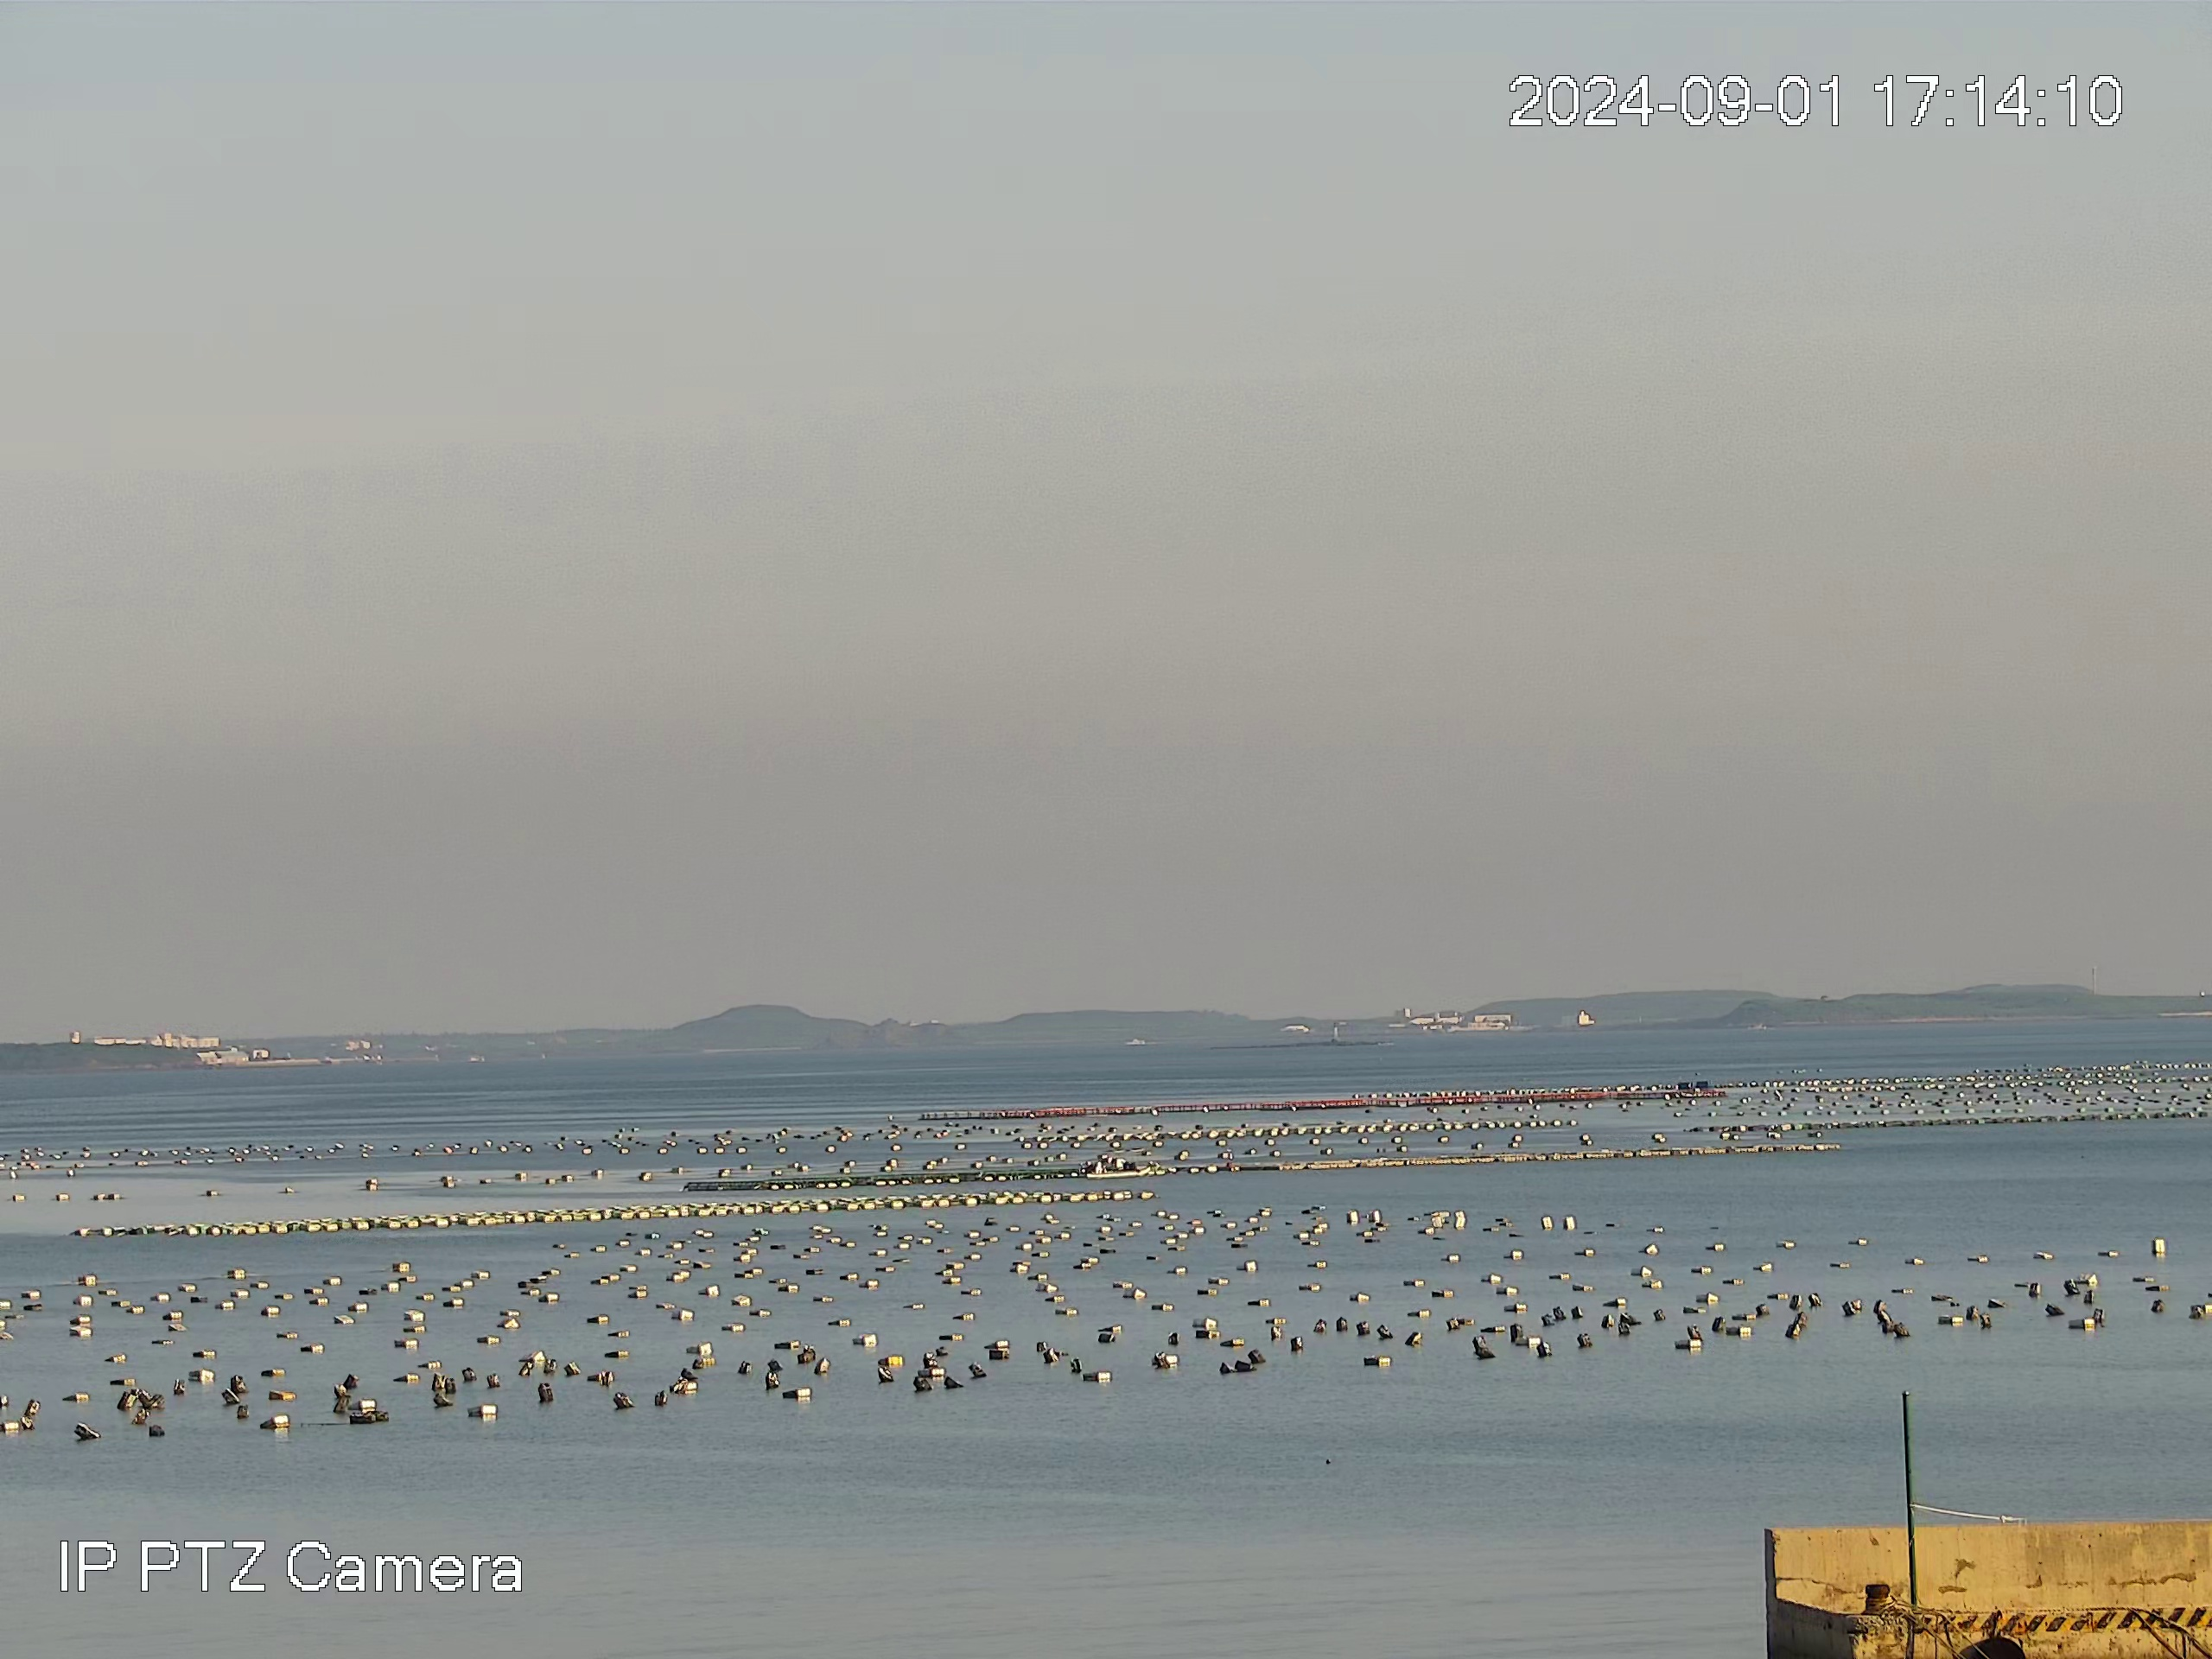boat: (1092, 1150, 1155, 1183)
